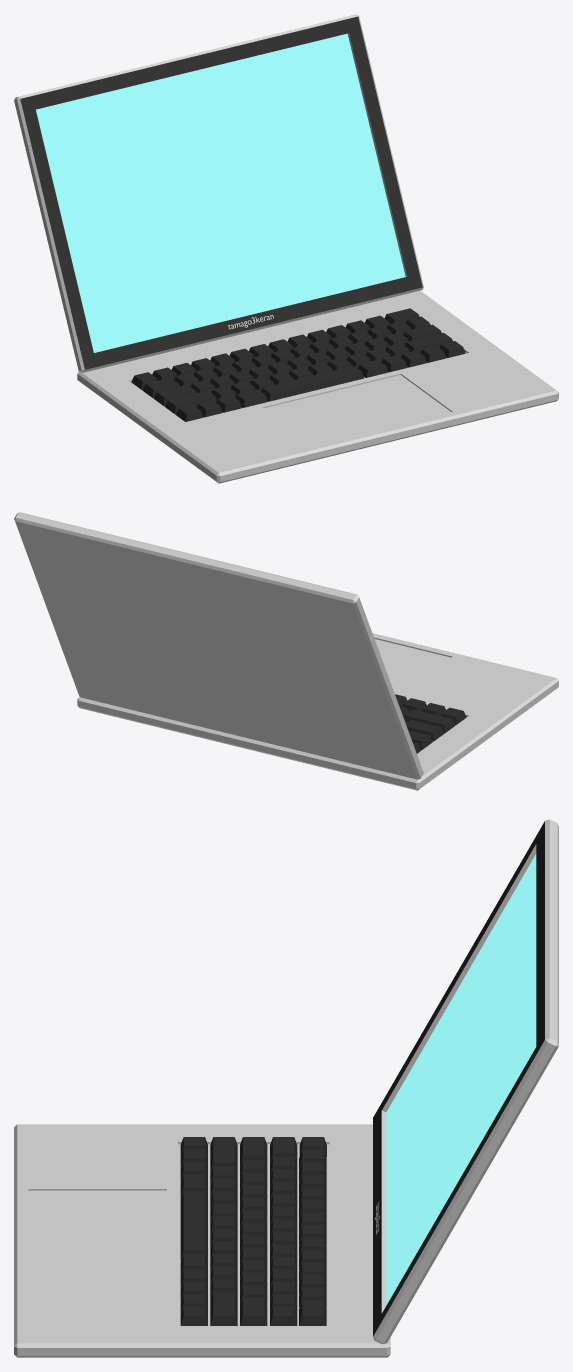
File: notebook.gltf
3 views of the same model, one above another, from view 1: azimuth 30°, elevation 25°; view 2: azimuth 150°, elevation 25°; view 3: azimuth 270°, elevation 25° (orthographic). The views are drawn at different scales.
Visible parts, largest first — view 1: Cube.001, Cube, 立方体; view 2: Cube.001, Cube, 立方体; view 3: Cube, Cube.001, 立方体.
Part boxes in pixels (left/top/right/bottom): Cube.001: left=14, top=14, right=423, bottom=372; Cube: left=77, top=290, right=558, bottom=483; 立方体: left=131, top=308, right=465, bottom=421; Cube.001: left=14, top=512, right=423, bottom=779; Cube: left=77, top=633, right=558, bottom=790; 立方体: left=395, top=694, right=466, bottom=753; Cube: left=14, top=1124, right=390, bottom=1357; Cube.001: left=373, top=819, right=558, bottom=1344; 立方体: left=180, top=1137, right=326, bottom=1325.
Size of the model in its own units: 2.42 by 1.62 by 2.51.
